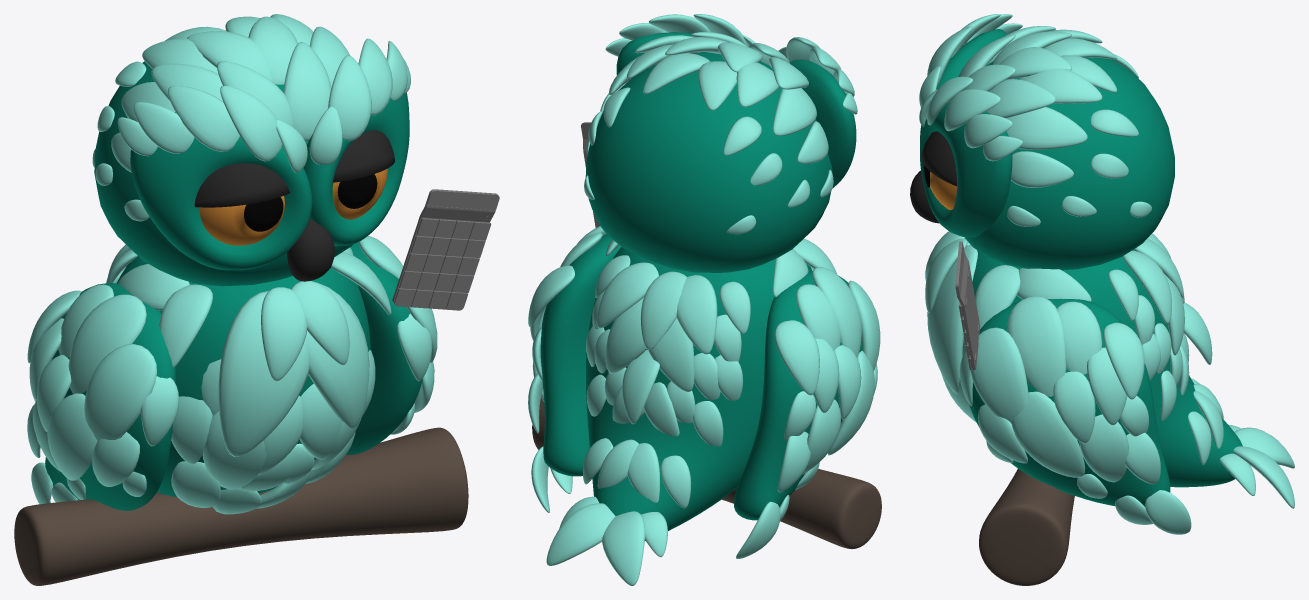
File: eng_1.fbx
3 renders of one model, left to right at view 1: azimuth 30°, elevation 25°; view 2: azimuth 150°, elevation 25°; view 3: azimuth 270°, elevation 25°, orthographic. The views are drawn at different scales.
Parts seen in each view (by area): view 1: Cylinder, Circle, Plane.019, Plane, Cube.001, Cube, calc.001_low, Plane.029, Plane.030, Sphere.001, Plane.003, Plane.007 (+32 smaller); view 2: Cube.001, Plane, Cube, Cylinder, Plane.050, Plane.046, Circle, Plane.047, Plane.033, Plane.015, Plane.049, Plane.060 (+35 smaller); view 3: Cube.001, Cylinder, Cube, Circle, Plane, Plane.031, Plane.030, Plane.036, Plane.019, Plane.011, Plane.050, Plane.008 (+44 smaller).
Part boxes in pixels (<box>): Cylinder: <box>14,427,468,585</box>; Circle: <box>130,92,409,270</box>; Plane.019: <box>218,282,369,456</box>; Plane: <box>45,242,422,510</box>; Cube.001: <box>94,61,353,286</box>; Cube: <box>117,256,370,497</box>; calc.001_low: <box>394,218,491,310</box>; Plane.029: <box>261,281,349,381</box>; Plane.030: <box>84,307,437,441</box>; Sphere.001: <box>194,130,394,207</box>; Plane.003: <box>220,55,371,161</box>; Plane.007: <box>217,42,331,141</box>; Cube.001: <box>585,52,832,272</box>; Plane: <box>540,234,862,520</box>; Cube: <box>586,247,811,540</box>; Cylinder: <box>532,397,881,549</box>; Plane.050: <box>546,503,644,585</box>; Plane.046: <box>596,262,717,354</box>; Circle: <box>616,32,856,188</box>; Plane.047: <box>605,297,694,391</box>; Plane.033: <box>528,265,819,395</box>; Plane.015: <box>643,53,736,110</box>; Plane.049: <box>597,439,659,502</box>; Plane.060: <box>640,271,686,349</box>; Cube.001: <box>964,57,1174,270</box>; Cylinder: <box>979,469,1074,585</box>; Cube: <box>972,249,1242,487</box>; Circle: <box>920,29,1012,237</box>; Plane: <box>969,298,1170,506</box>; Plane.031: <box>1007,296,1066,396</box>; Plane.030: <box>970,327,1028,423</box>; Plane.036: <box>1011,391,1084,477</box>; Plane.019: <box>927,238,977,394</box>; Plane.011: <box>1006,106,1087,149</box>; Plane.050: <box>1233,427,1294,508</box>; Plane.008: <box>992,31,1071,79</box>.
Size of the model in its own units: 402 by 506 by 382.
